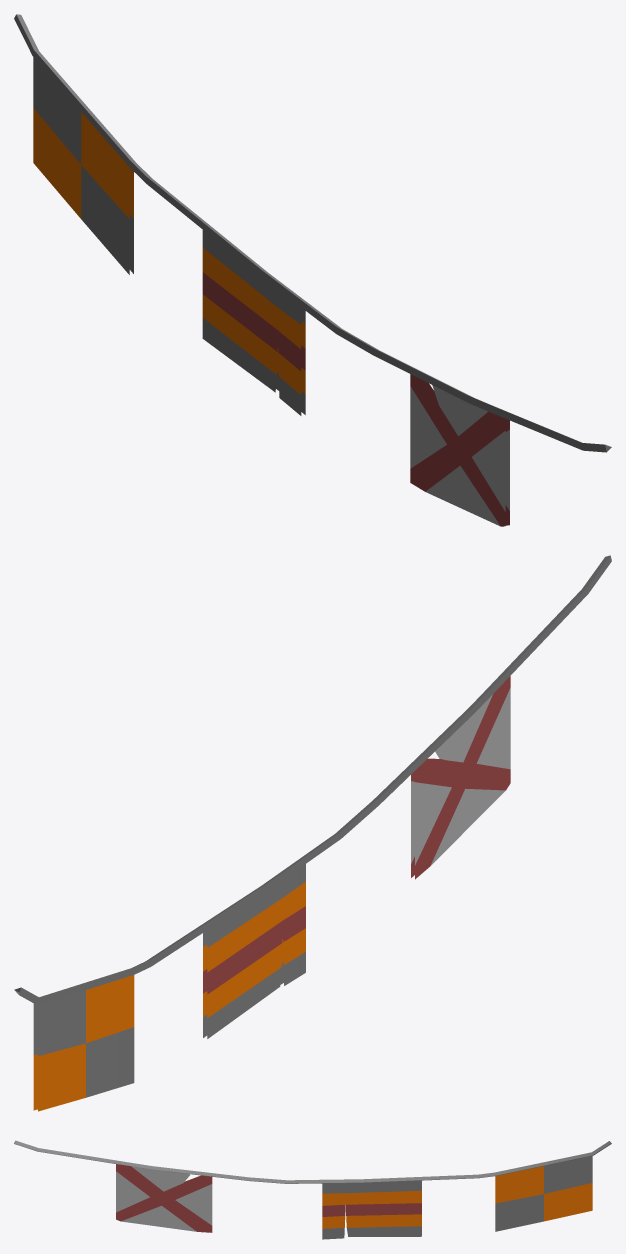
Rendered from prop_11.FBX.
3 renders of one model, top to bottom at view 1: azimuth 30°, elevation 25°; view 2: azimuth 150°, elevation 25°; view 3: azimuth 270°, elevation 25°, orthographic. The views are drawn at different scales.
Visible parts, largest first — view 1: prop_11; view 2: prop_11; view 3: prop_11.
Boxes of the visible parts, <box> form: prop_11: <box>14,14,611,526</box>; prop_11: <box>14,555,611,1111</box>; prop_11: <box>14,1140,611,1239</box>.
Size of the model in its own units: 0.75 by 22.88 by 126.
